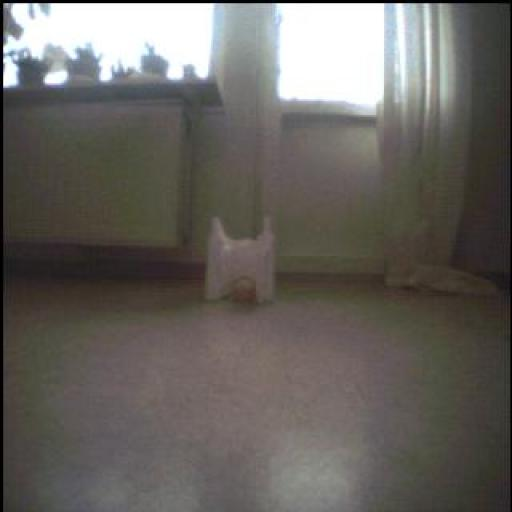Basket: (233, 273, 259, 308)
